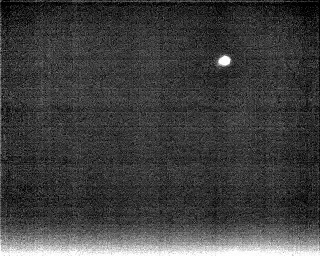AIRPLANE: (215, 52, 234, 70)
